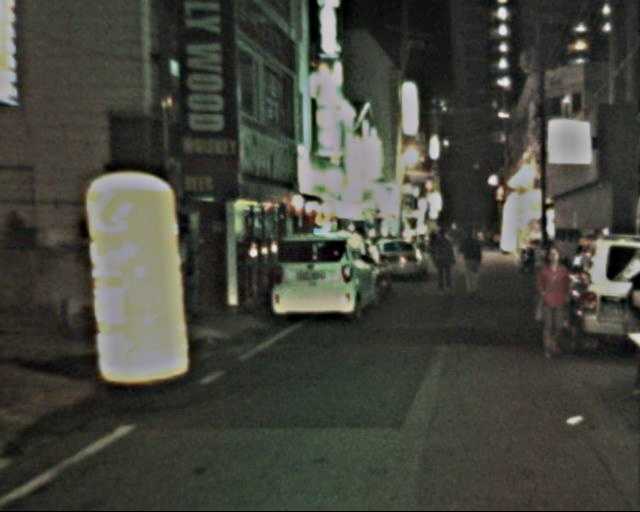person: (529, 247, 575, 359), (455, 230, 490, 299), (430, 229, 463, 297)
